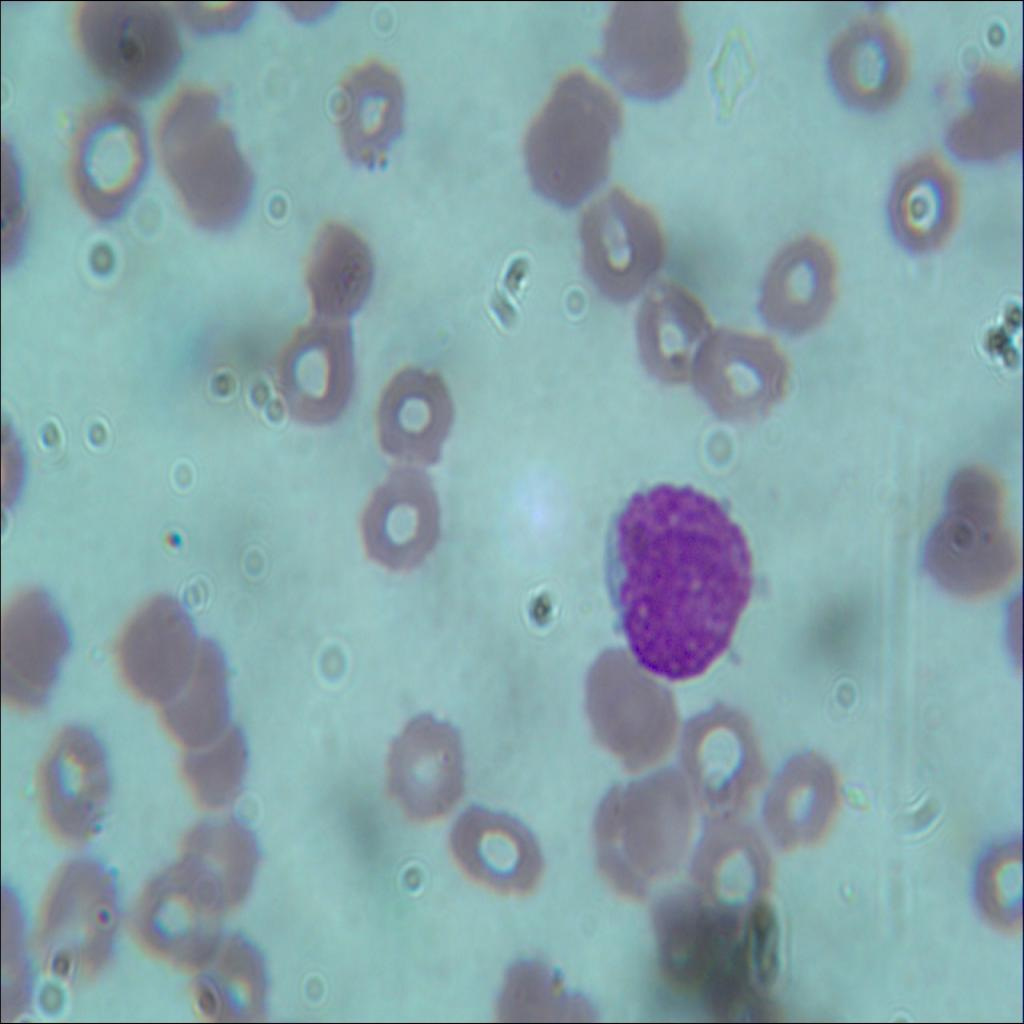Eritrosit: (586, 770, 696, 904), (580, 642, 686, 779), (916, 464, 1023, 597), (564, 175, 670, 301), (29, 852, 126, 985), (38, 714, 120, 858), (513, 84, 615, 198), (626, 261, 720, 379), (262, 311, 355, 428), (682, 817, 774, 924), (443, 806, 543, 904), (597, 0, 692, 101), (379, 704, 461, 821), (755, 754, 844, 858), (690, 324, 789, 417), (113, 580, 189, 701), (818, 15, 912, 111), (680, 702, 758, 817), (74, 100, 146, 224), (882, 148, 963, 258), (942, 47, 1023, 157), (139, 847, 215, 961), (158, 628, 230, 744), (0, 581, 61, 717), (368, 362, 461, 450), (173, 138, 255, 234), (291, 210, 371, 308), (359, 464, 438, 562), (759, 239, 839, 334), (100, 0, 178, 97), (183, 941, 275, 1023), (334, 62, 406, 165), (186, 812, 260, 908), (168, 728, 254, 808), (154, 74, 224, 168), (968, 824, 1023, 934)
Limfoblast: (604, 481, 759, 665)
Platelet: (152, 522, 186, 554)
